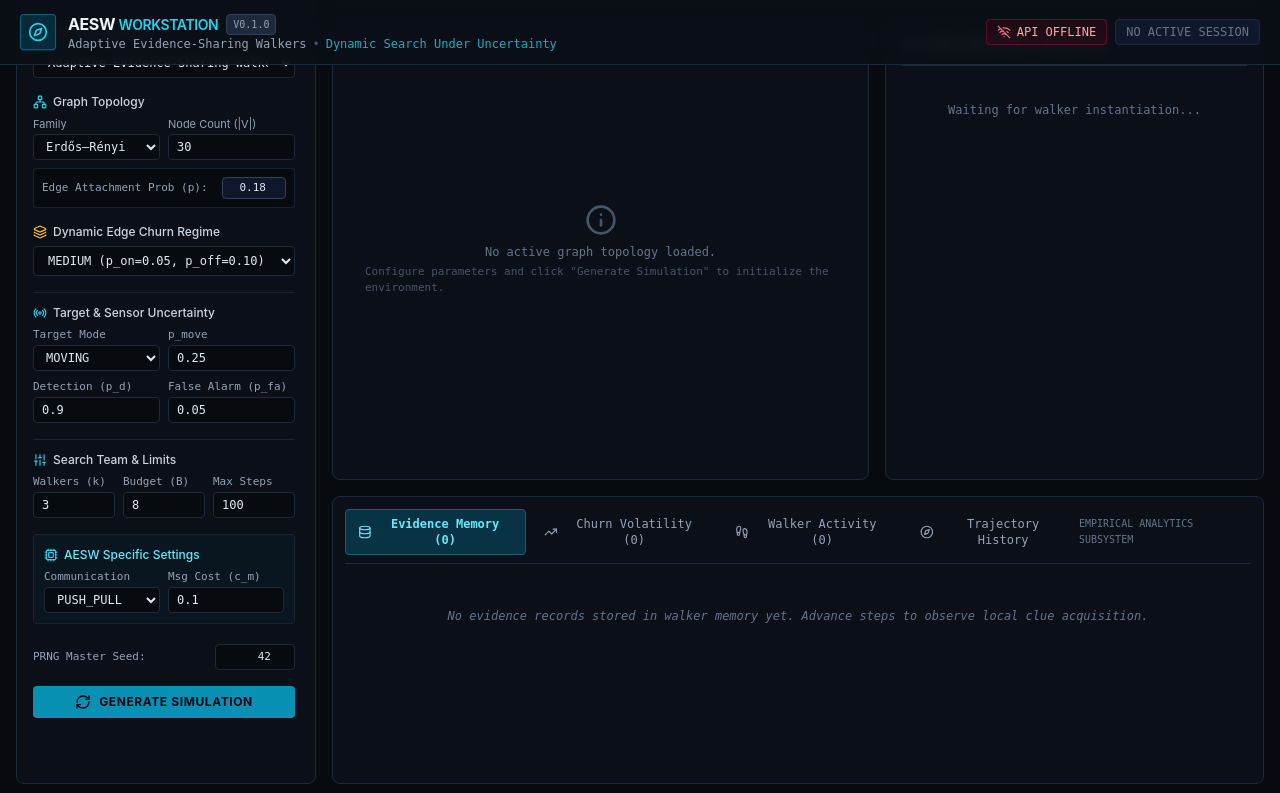
Test: AESW Research Workstation Frontend › 11. Displays API error banner when an error occurs
(page scrolled)
Click the button "Generate Simulation" at (164, 702), box [33, 686, 295, 718]
(page scrolled)
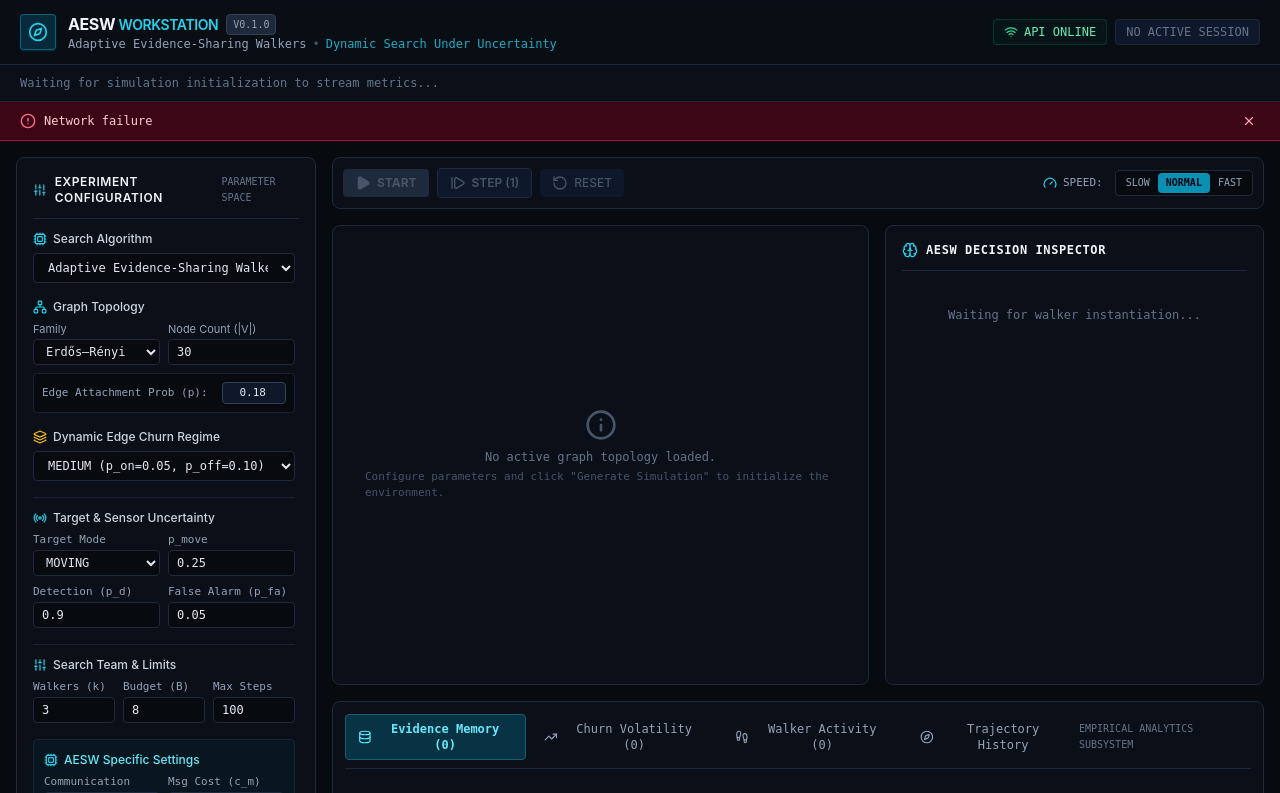
Check: the text "Network failure" is shown, box [44, 113, 152, 129]
